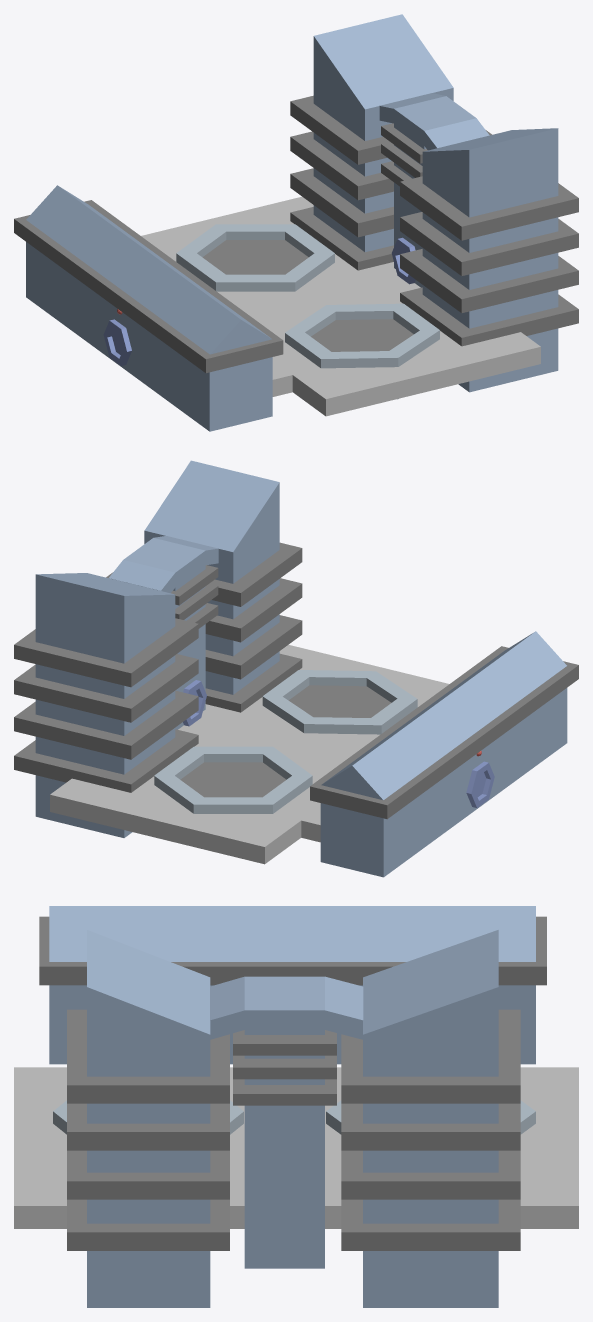
The model's file is piste d'atterissage 02.fbx.
The picture shows the model from 3 angles, top to bottom: view 1: azimuth 30°, elevation 25°; view 2: azimuth 150°, elevation 25°; view 3: azimuth 270°, elevation 25°; orthographic projection. The views are drawn at different scales.
Visible parts, largest first — view 1: Cube.022, Cube.010, Cube.001, Cube.011, Cylinder, Cylinder.001, Cube.023, Cube, Cube.012, Cube.008, Cube.006, Cube.007 (+9 smaller); view 2: Cube.022, Cube.001, Cube, Cube.010, Cylinder, Cylinder.001, Cube.023, Cube.011, Cube.012, Cube.003, Cube.005, Cube.004 (+9 smaller); view 3: Cube.001, Cube.010, Cube.022, Cube.012, Cube, Cube.011, Cube.005, Cube.006, Cube.023, Cube.002, Cube.003, Cube.004 (+8 smaller).
Part boxes in pixels (x1,y1,x2,y2): Cube.022: (26, 185, 272, 431); Cube.010: (422, 128, 558, 392); Cube.001: (313, 14, 453, 252); Cube.011: (253, 281, 540, 416); Cylinder: (176, 224, 334, 291); Cylinder.001: (285, 303, 439, 399); Cube.023: (14, 200, 283, 373); Cube: (141, 196, 404, 317); Cube.012: (379, 93, 489, 287); Cube.008: (400, 249, 578, 313); Cube.006: (400, 176, 578, 240); Cube.007: (400, 212, 578, 275); Cube.022: (320, 631, 567, 877); Cube.001: (35, 573, 175, 837); Cube: (50, 721, 347, 864); Cube.010: (144, 460, 279, 694); Cylinder: (154, 746, 312, 813); Cylinder.001: (262, 670, 417, 734); Cube.023: (310, 646, 578, 819); Cube.011: (197, 644, 449, 758); Cube.012: (109, 536, 218, 729); Cube.003: (14, 690, 198, 759); Cube.005: (14, 618, 198, 687); Cube.004: (14, 654, 198, 722); Cube.001: (363, 930, 498, 1307); Cube.010: (87, 930, 210, 1307); Cube.022: (49, 906, 535, 1064); Cube.012: (210, 976, 363, 1268); Cube: (325, 1067, 578, 1228); Cube.011: (14, 1067, 244, 1228); Cube.005: (341, 1009, 520, 1103); Cube.006: (67, 1009, 229, 1103); Cube.023: (39, 916, 546, 985); Cube.002: (341, 1199, 520, 1250); Cube.003: (341, 1150, 520, 1199); Cube.004: (341, 1103, 520, 1150).
Size of the model in its own units: 558 by 337 by 538.
